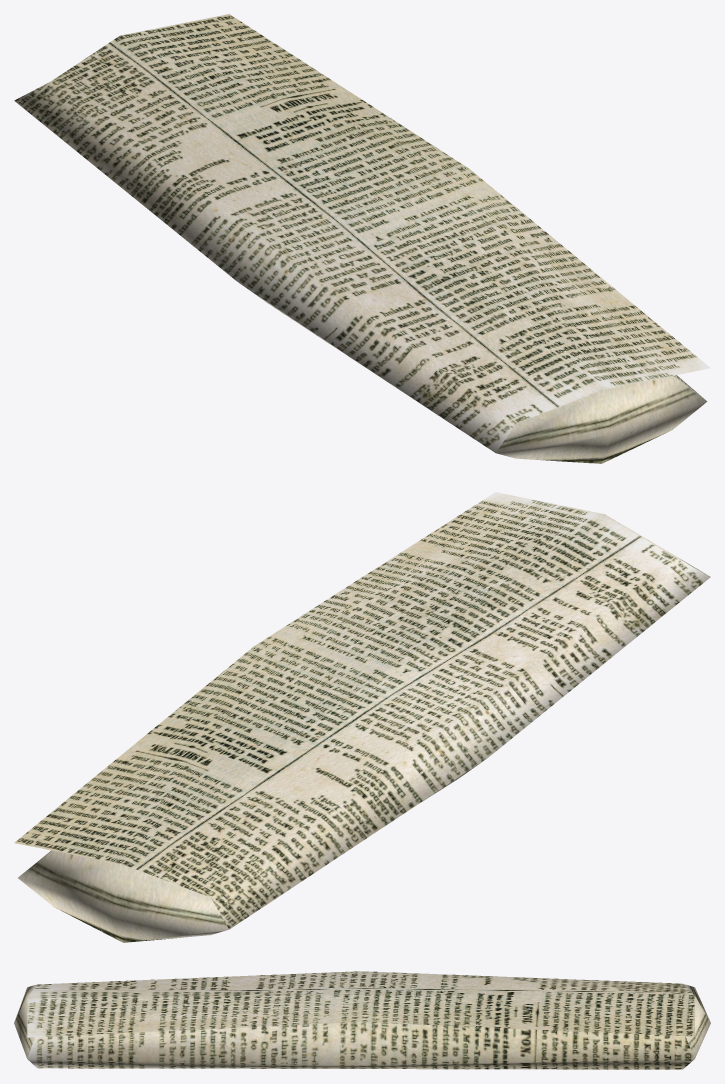
File: krant.fbx
3 renders of one model, top to bottom at view 1: azimuth 30°, elevation 25°; view 2: azimuth 150°, elevation 25°; view 3: azimuth 270°, elevation 25°, orthographic. The views are drawn at different scales.
Parts seen in each view (by area): view 1: pCube1; view 2: pCube1; view 3: pCube1.
Boxes of the visible parts, left/top/right/bottom form: pCube1: left=14, top=14, right=710, bottom=463; pCube1: left=14, top=492, right=710, bottom=942; pCube1: left=14, top=971, right=710, bottom=1069.
Size of the model in its own units: 6.92 by 2.51 by 24.29.
